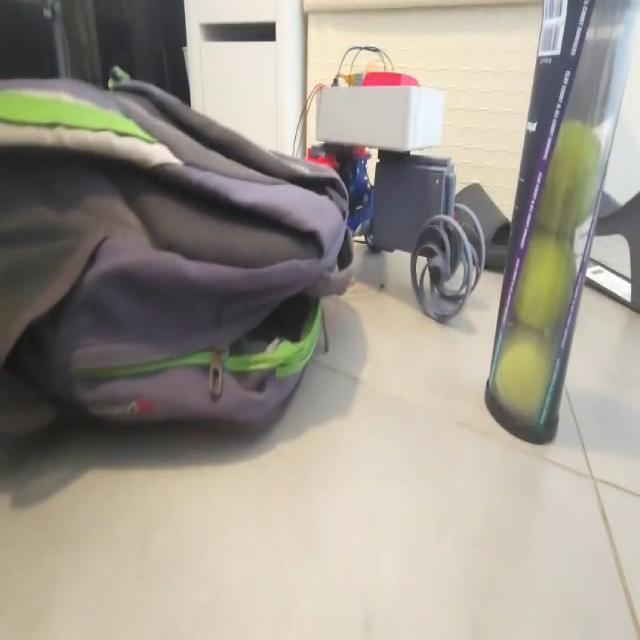Robot: (303, 69, 486, 324)
